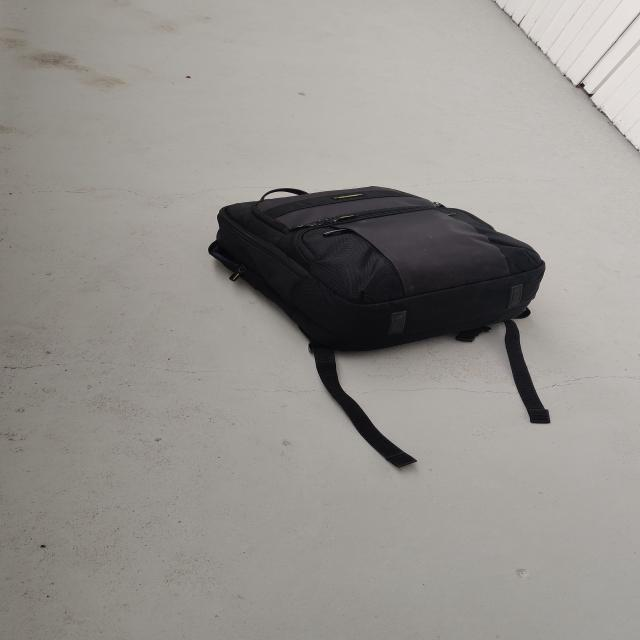backpack: (192, 179, 558, 361)
